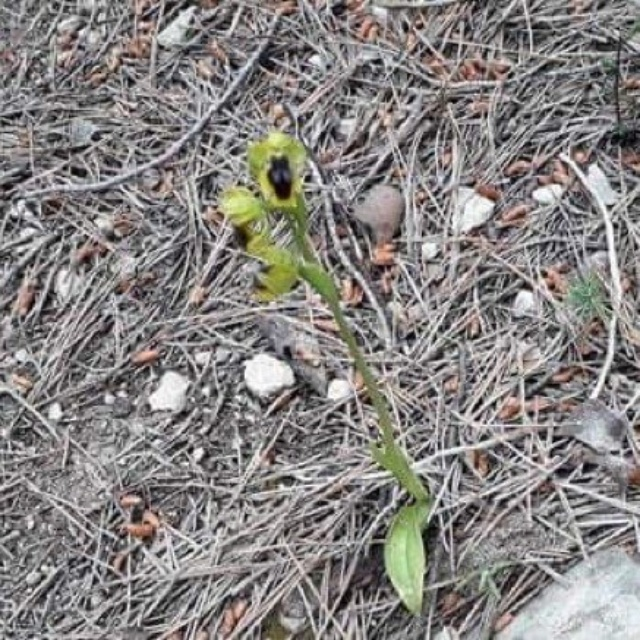obstacle: (190, 108, 461, 619)
